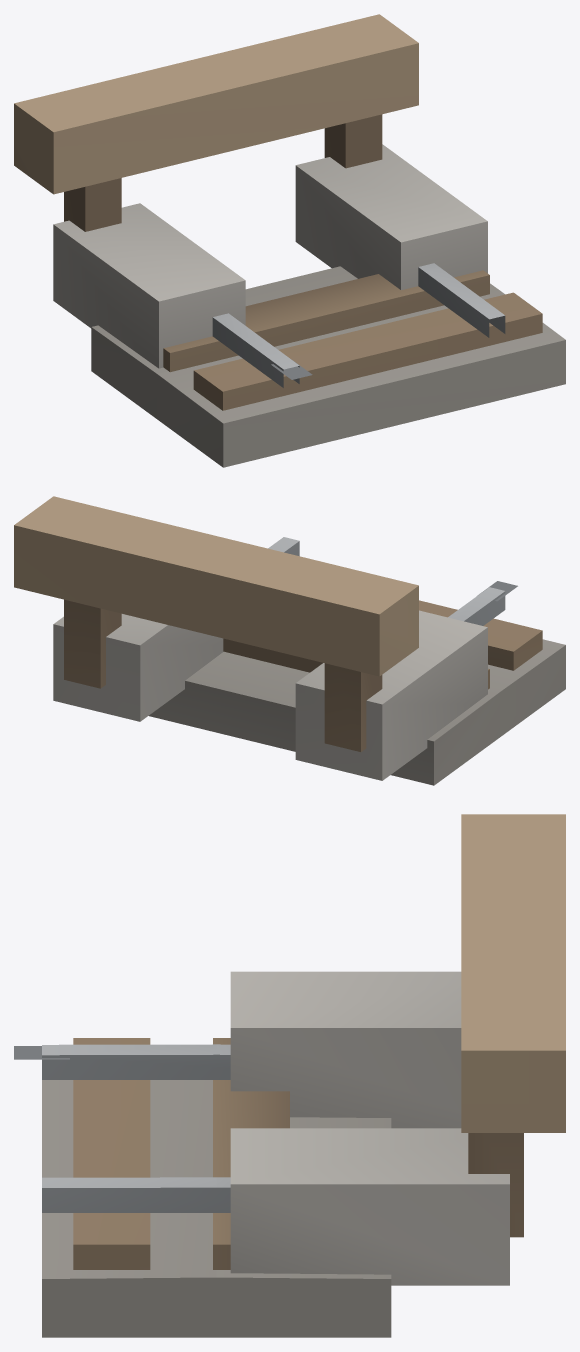
File: rail_end_low.glb
3 renders of one model, top to bottom at view 1: azimuth 30°, elevation 25°; view 2: azimuth 150°, elevation 25°; view 3: azimuth 270°, elevation 25°, orthographic. The views are drawn at different scales.
Parts seen in each view (by area): view 1: geometry_rail_end; view 2: geometry_rail_end; view 3: geometry_rail_end.
Part boxes in pixels (x1=…): geometry_rail_end: x1=14, y1=14, x2=565, y2=467; geometry_rail_end: x1=14, y1=496, x2=565, y2=785; geometry_rail_end: x1=14, y1=814, x2=565, y2=1337.
Bounding box in the file's own units: 1.6 × 0.93 × 1.58.
